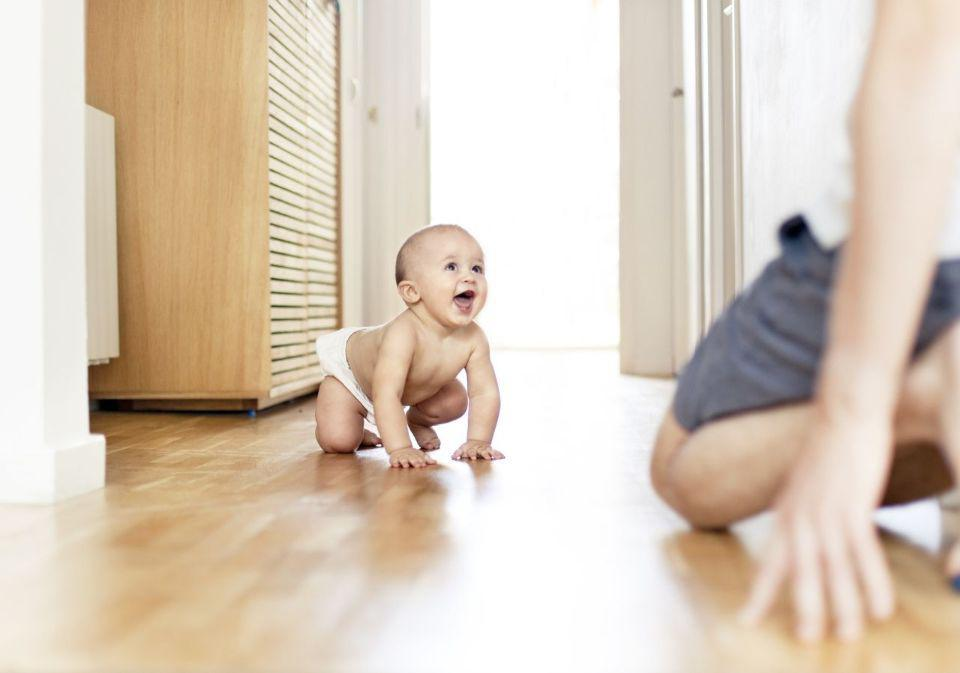child: (288, 222, 528, 487)
